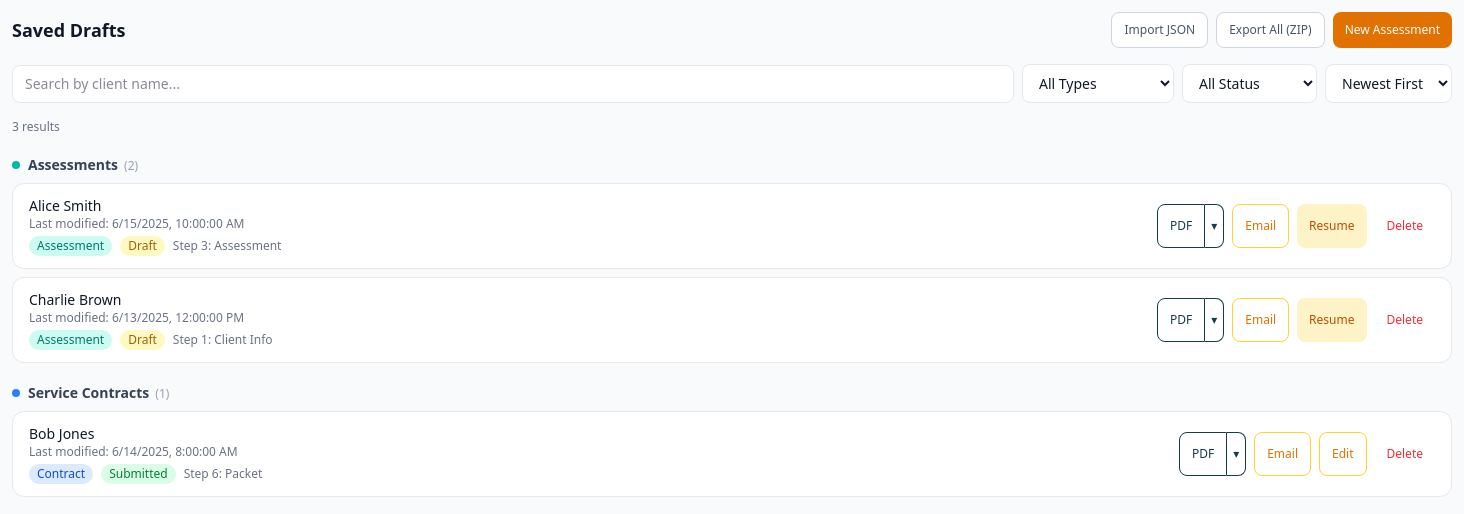
Test: DraftManager › filter and sort › filters drafts by search query
Expected: the text "Alice Smith" is shown, [29,196,102,215]
Type "alice" into the field with placeholder "Search by client name...".
click(513, 84); type("alice")  # box [12,64,1014,102]
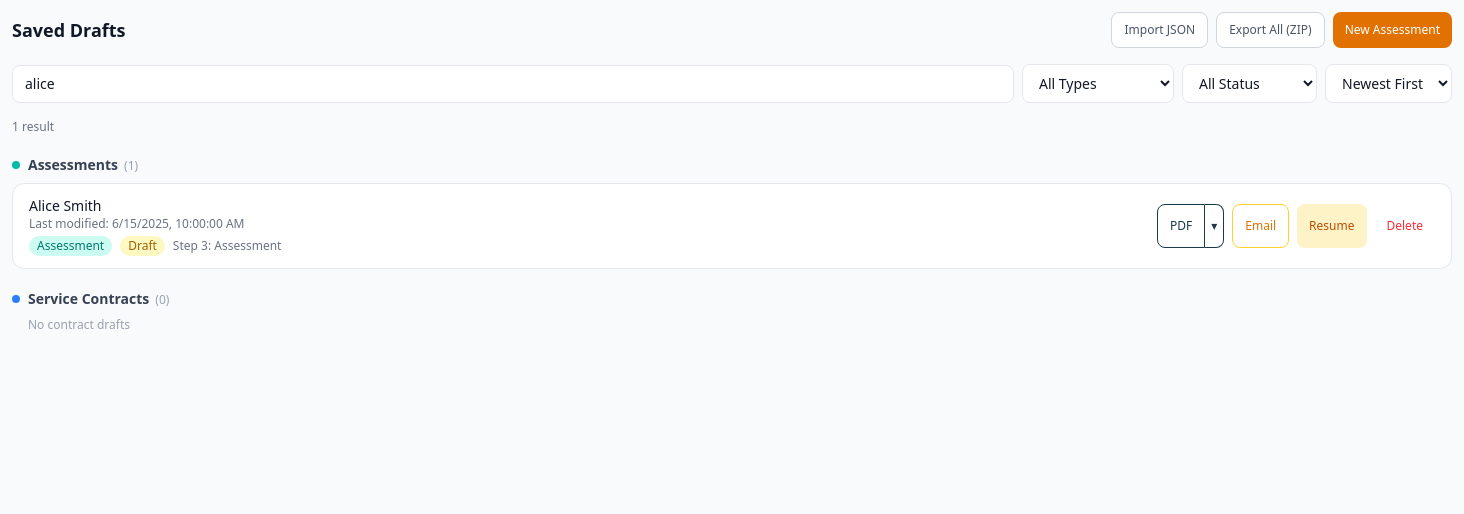
Expected: the text "Alice Smith" is shown, [29,196,102,215]
Now the text "Bob Jones" is gone
Now the text "Charlie Brown" is gone
